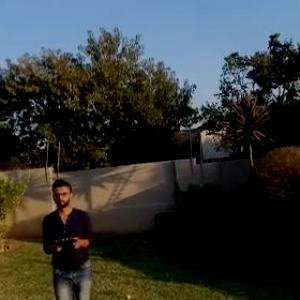follow: (30, 170, 91, 299)
